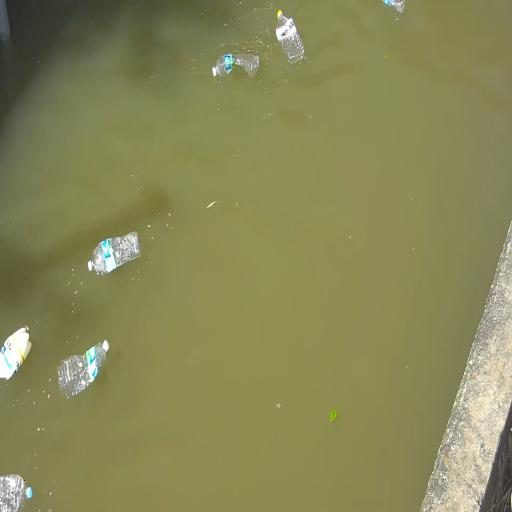plastic: (58, 339, 109, 398), (88, 231, 140, 276), (0, 327, 31, 379), (276, 10, 305, 63), (0, 475, 32, 511), (212, 54, 259, 77)
